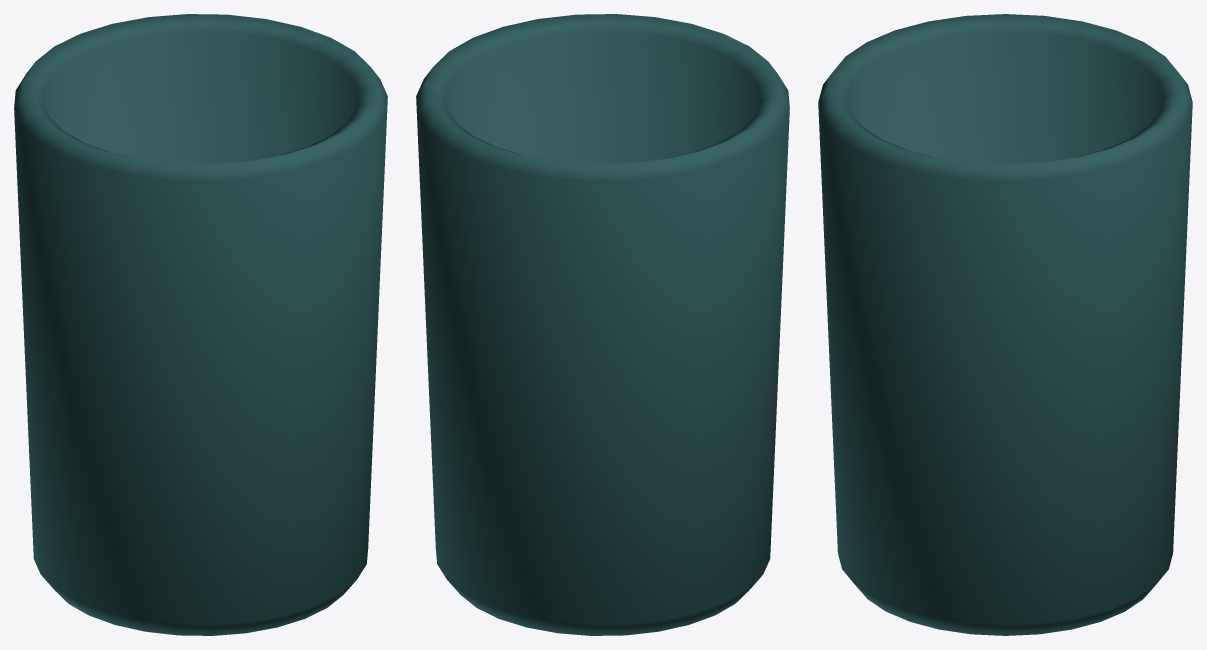
The model's file is cup.glb.
3 renders of one model, left to right at view 1: azimuth 30°, elevation 25°; view 2: azimuth 150°, elevation 25°; view 3: azimuth 270°, elevation 25°, orthographic.
Visible parts, largest first — view 1: Cup; view 2: Cup; view 3: Cup.
Boxes of the visible parts, x1,y1,x2,y2 form: Cup: [14, 14, 387, 635]; Cup: [416, 14, 789, 635]; Cup: [818, 14, 1192, 635].
Size of the model in its own units: 0.076 by 0.108 by 0.076.
